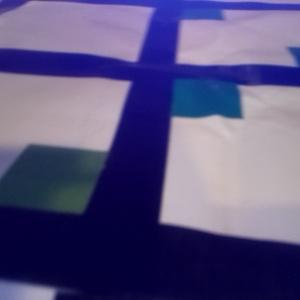bottom_right: (132, 63, 241, 119), (155, 1, 223, 20)
top_left: (1, 144, 157, 279)
